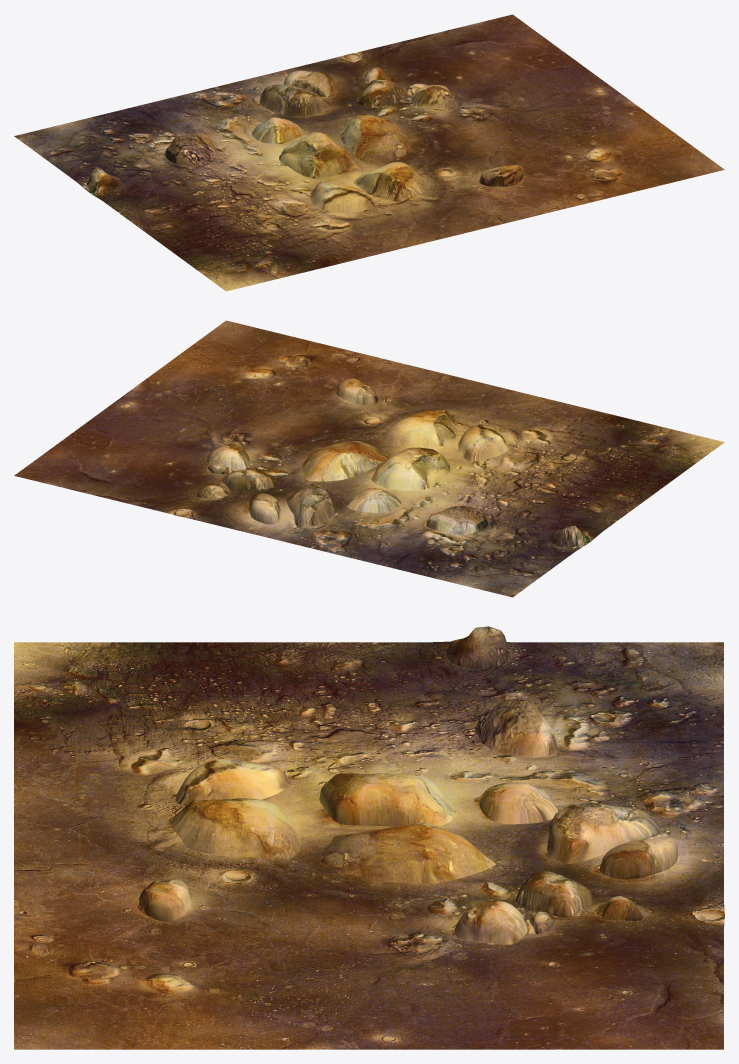
The model's file is KnightsOfCydonia_Map.fbx.
3 renders of one model, top to bottom at view 1: azimuth 30°, elevation 25°; view 2: azimuth 150°, elevation 25°; view 3: azimuth 270°, elevation 25°, orthographic. The views are drawn at different scales.
Visible parts, largest first — view 1: Plane, Rocks; view 2: Plane, Rocks; view 3: Plane, Rocks.
Part boxes in pixels (bbox=[...]): Plane: bbox=[14, 14, 724, 291]; Rocks: bbox=[87, 67, 524, 212]; Plane: bbox=[14, 320, 724, 597]; Rocks: bbox=[197, 377, 590, 547]; Plane: bbox=[14, 641, 724, 1049]; Rocks: bbox=[139, 626, 678, 944].
Bounding box in the file's own units: 249905 × 10226 × 183907.
